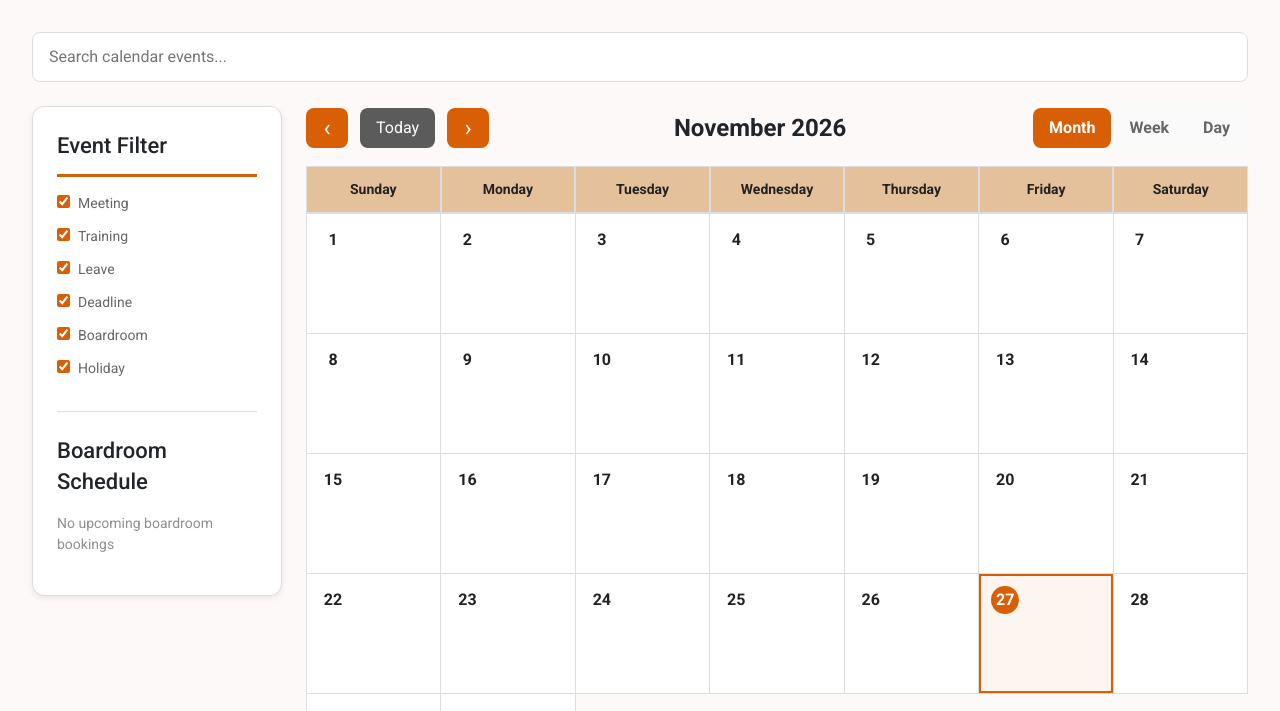
Calendar - day events modal › closes an open modal when Escape is pressed
Click the element with class "date-number" at (912, 274), box x1=845 y1=214 x2=979 y2=334
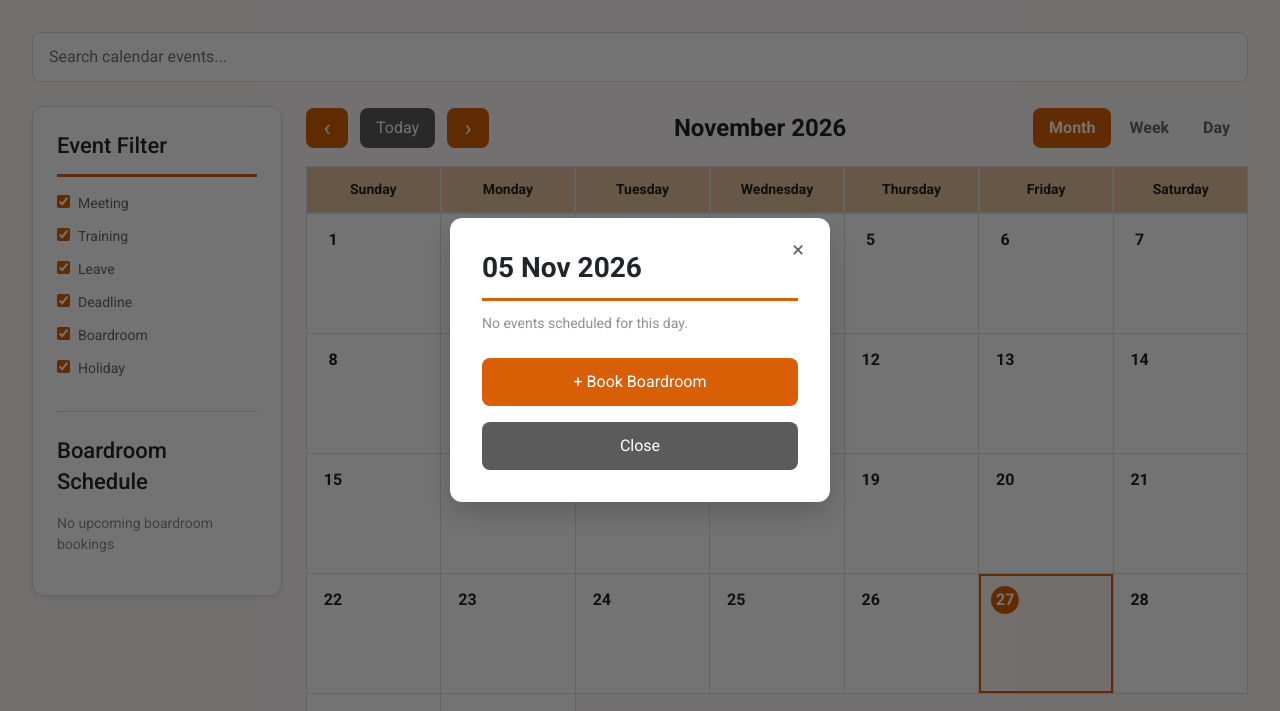
Check: the text "No events scheduled for this day." is shown, box x1=482 y1=315 x2=688 y2=331
Press Escape
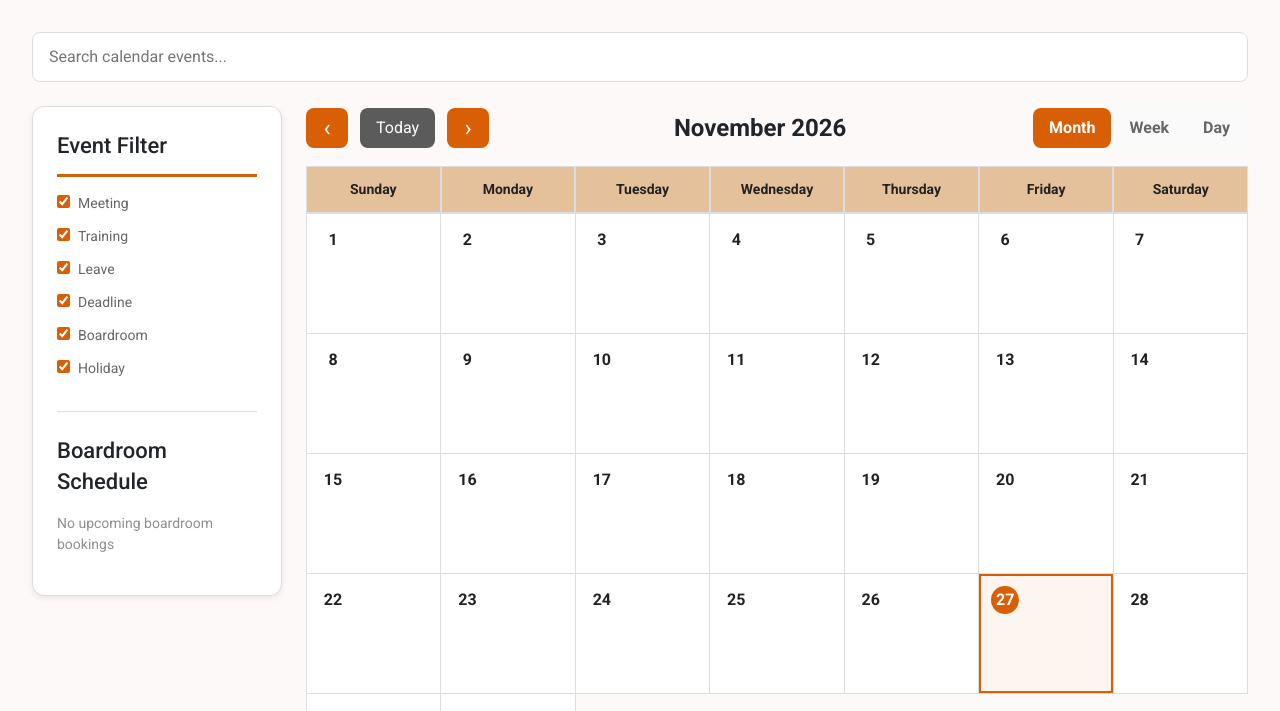
Check: the text "No events scheduled" is gone
